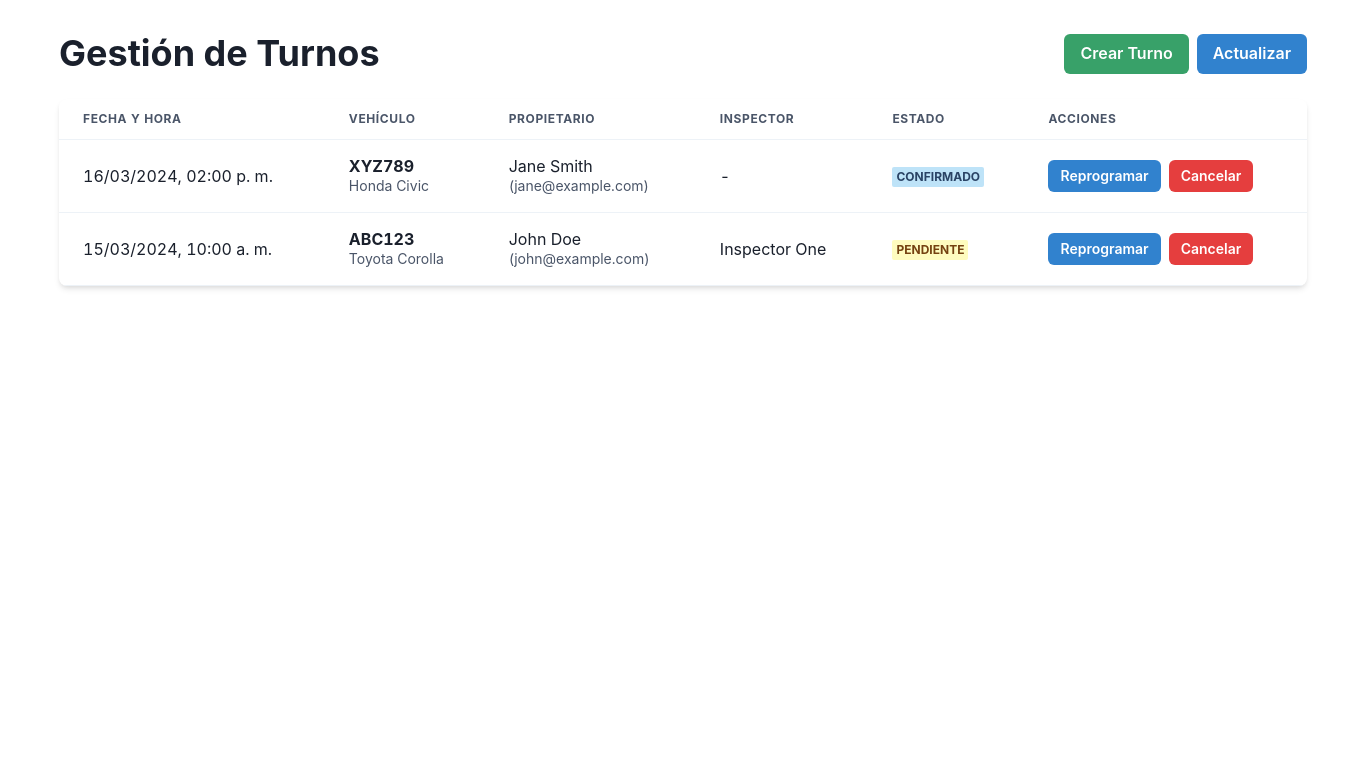
AppointmentManagementPage › as ADMIN › should show inspector selector when creating appointment as ADMIN
Expected: the text "ABC123" is shown, [349,229,414,249]
Click the button "Crear Turno" at (1127, 54), box [1064,34,1189,74]
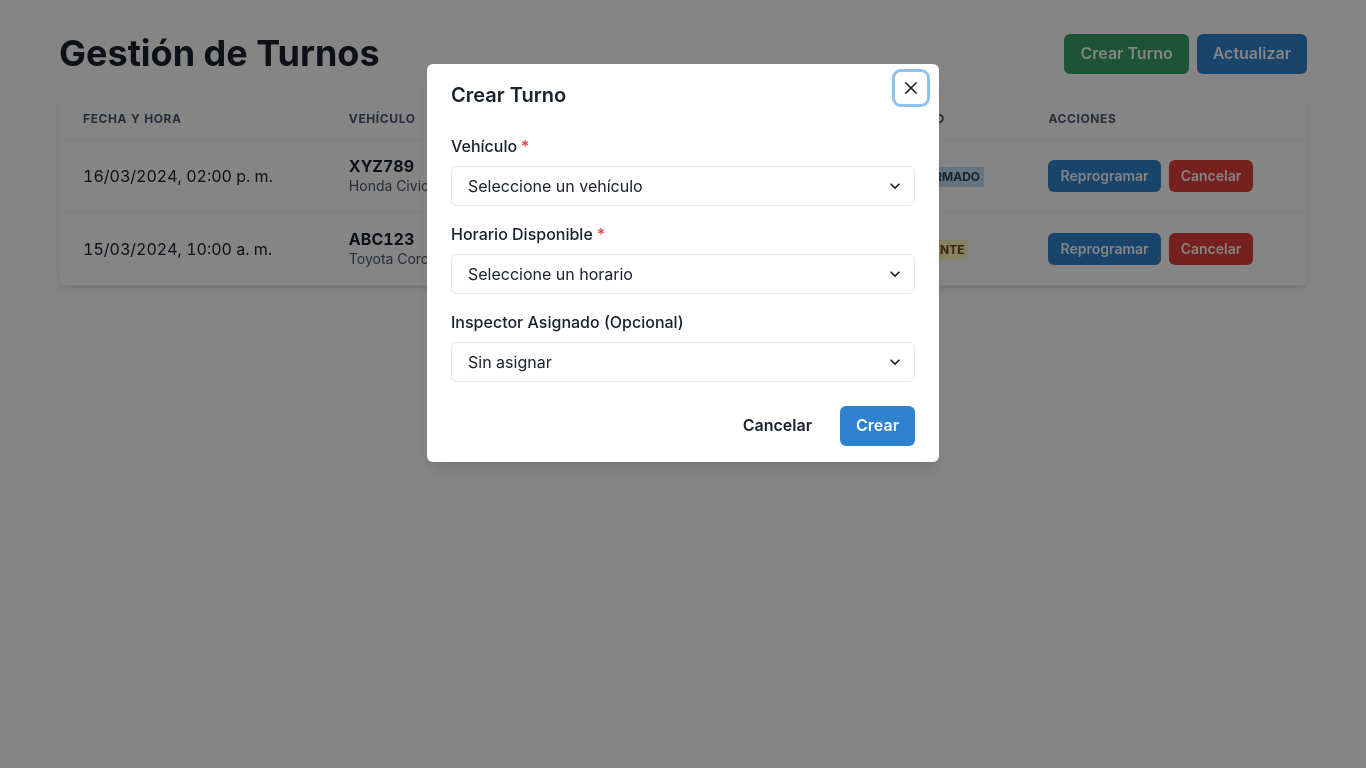
Expected: the dropdown labelled "Inspector Asignado (Opcional)" is shown, [451,342,915,382]
